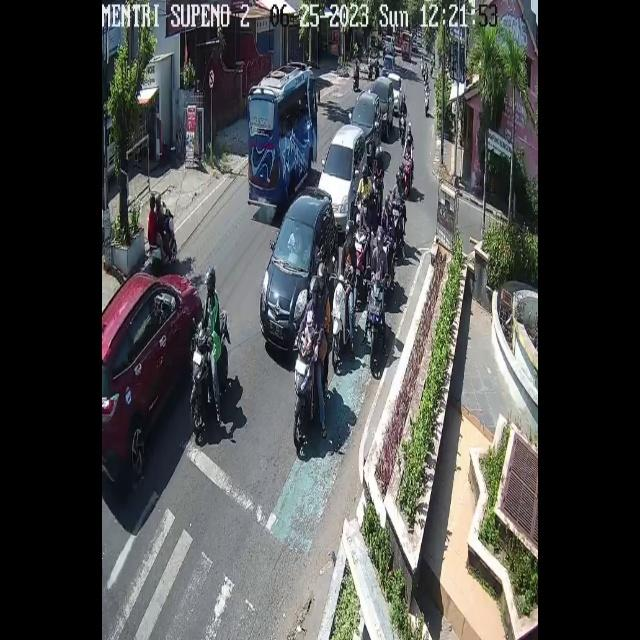bus: (190, 310, 228, 432), (293, 336, 315, 447), (149, 202, 178, 278), (332, 273, 351, 368), (366, 280, 384, 372), (354, 231, 367, 294), (392, 196, 405, 258), (384, 230, 394, 288), (402, 152, 413, 198), (399, 112, 407, 149), (355, 200, 364, 226), (371, 171, 382, 191), (424, 91, 430, 117)
car: (248, 61, 319, 206), (401, 32, 412, 61)
motorcycle: (102, 272, 203, 488), (260, 185, 339, 353), (318, 124, 368, 233), (350, 90, 380, 159), (371, 76, 395, 139), (389, 70, 405, 108), (383, 54, 396, 78)
